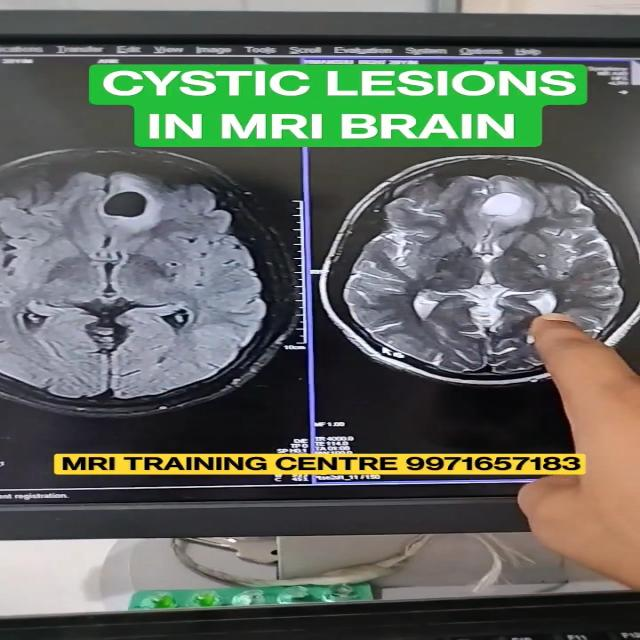tumor: (484, 176, 567, 233), (98, 192, 172, 235)
